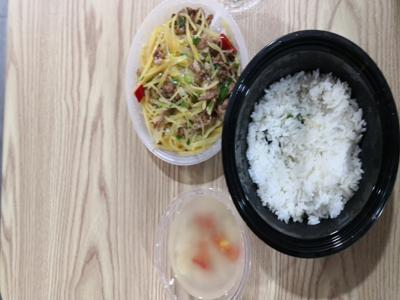rice: (245, 35, 375, 265)
